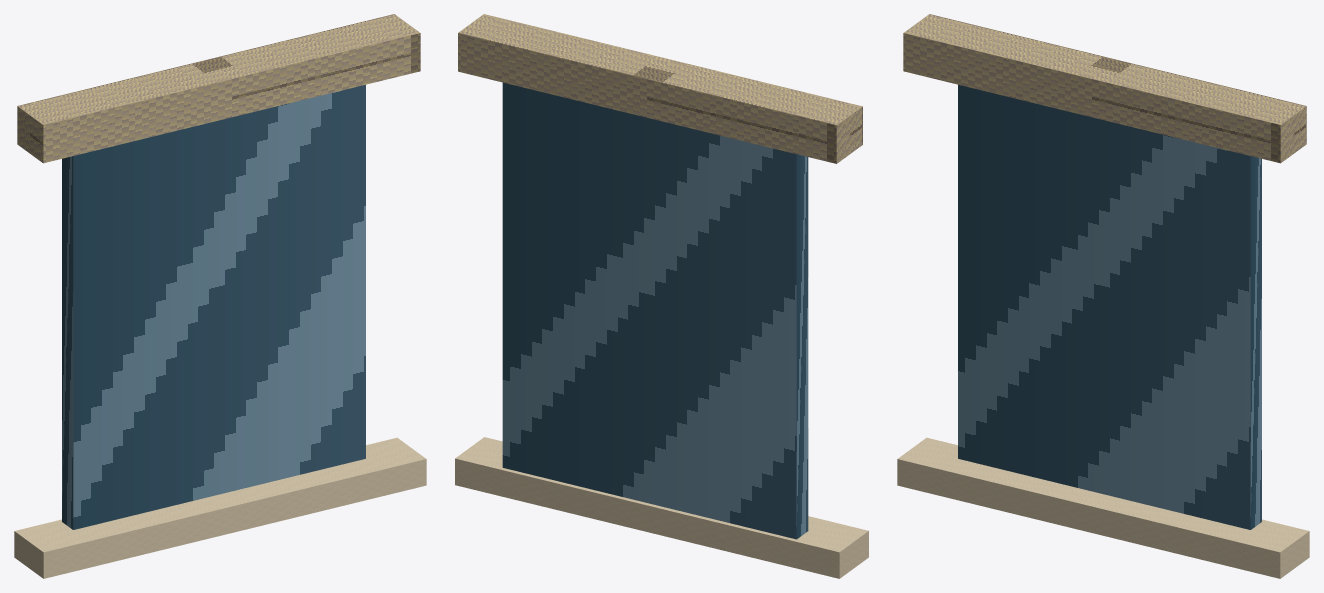
The model's file is window-casco-lod1.glb.
3 views of the same model, side by side, from view 1: azimuth 30°, elevation 25°; view 2: azimuth 150°, elevation 25°; view 3: azimuth 330°, elevation 25° (orthographic).
Visible parts, largest first — view 1: window-casco-lod1; view 2: window-casco-lod1; view 3: window-casco-lod1.
Boxes of the visible parts, box(x1,y1,x2,y2) form: window-casco-lod1: box(14, 14, 426, 578); window-casco-lod1: box(455, 14, 868, 578); window-casco-lod1: box(897, 14, 1309, 578).
Size of the model in its own units: 1.36 by 1.53 by 0.18.
1 material, 1 textured.
